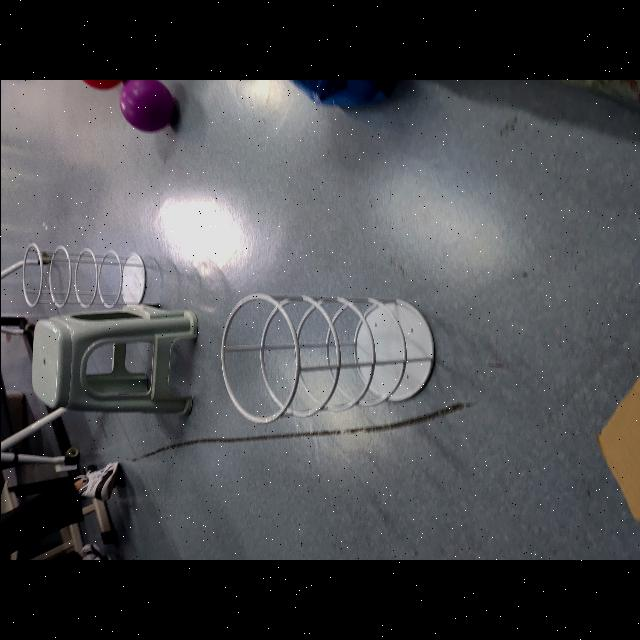S: (217, 294, 437, 424)
